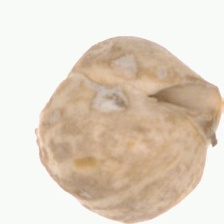L1: (150, 73, 222, 147)
L2: (36, 35, 221, 223)
